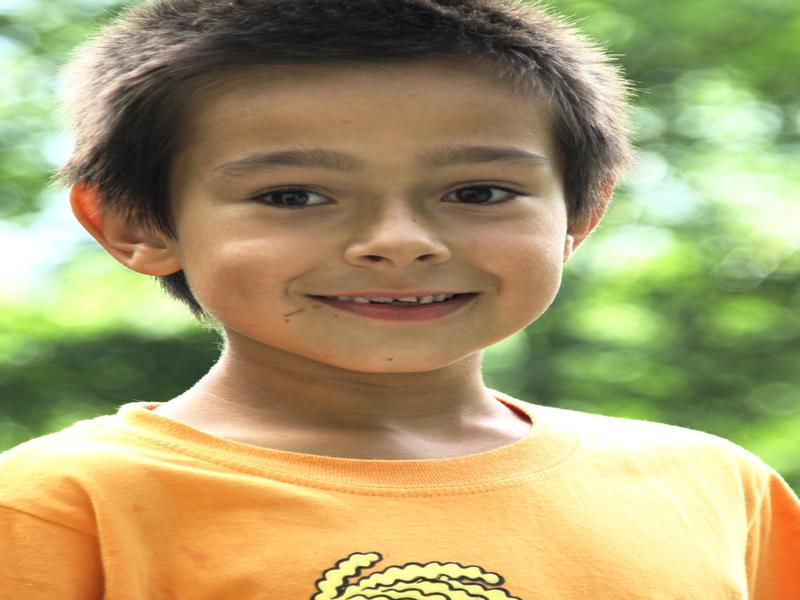person: (8, 1, 767, 600)
